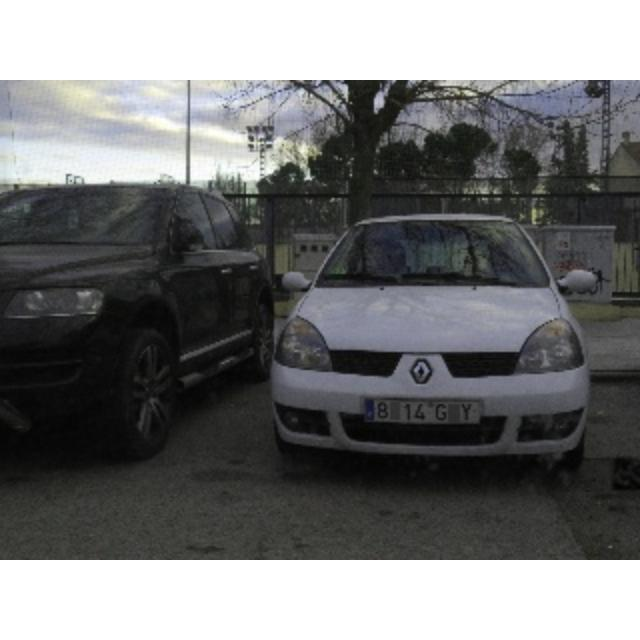car: (267, 214, 603, 471), (0, 176, 272, 469)
plate: (365, 400, 479, 422)
